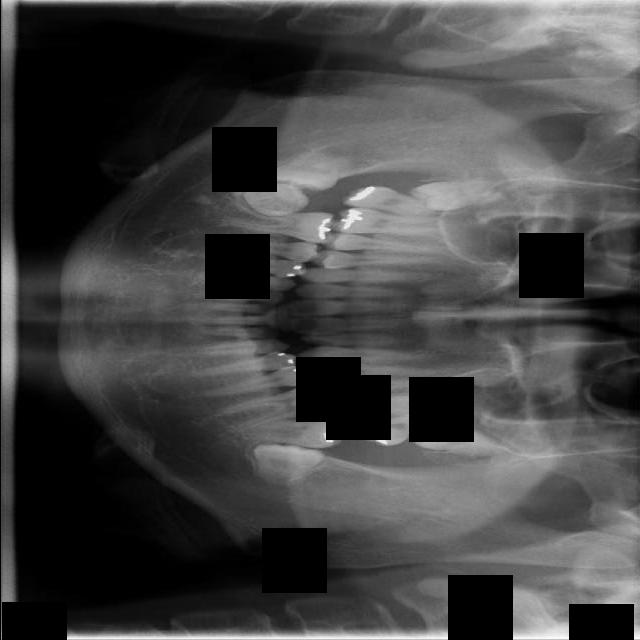3M ESPE Implant: (407, 178, 501, 214)
52: (352, 416, 407, 452), (285, 383, 331, 421), (287, 212, 335, 245), (328, 395, 375, 426), (307, 416, 343, 450), (328, 207, 376, 232), (342, 186, 396, 207), (260, 351, 300, 373), (277, 364, 309, 388), (270, 260, 305, 277)
73: (78, 605, 78, 611)
BioHorizons Implant: (353, 401, 446, 455)
BioLife Implant: (412, 415, 506, 464)
Biomet 3i Implant: (248, 438, 326, 491)
Blue Sky Bio Implant: (242, 417, 344, 448)
Caries: (340, 180, 439, 221)
Implant: (244, 181, 307, 217)
Keystone Dental Implant: (266, 149, 353, 192)
